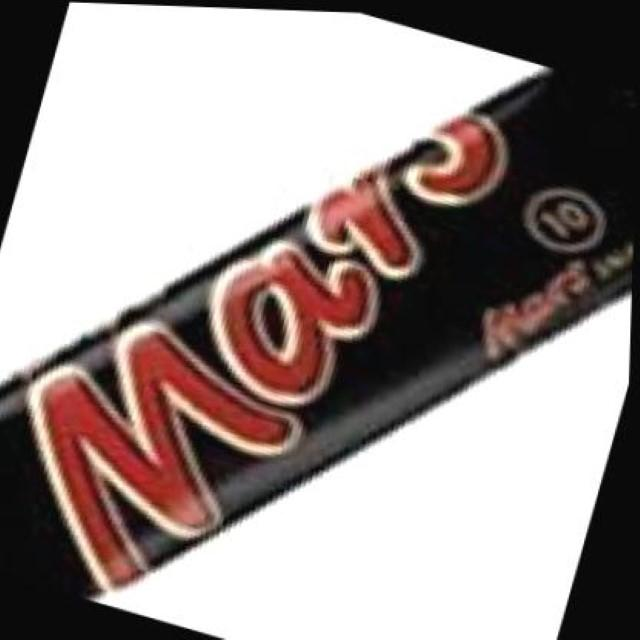mars_chocolate: (0, 93, 560, 640)
